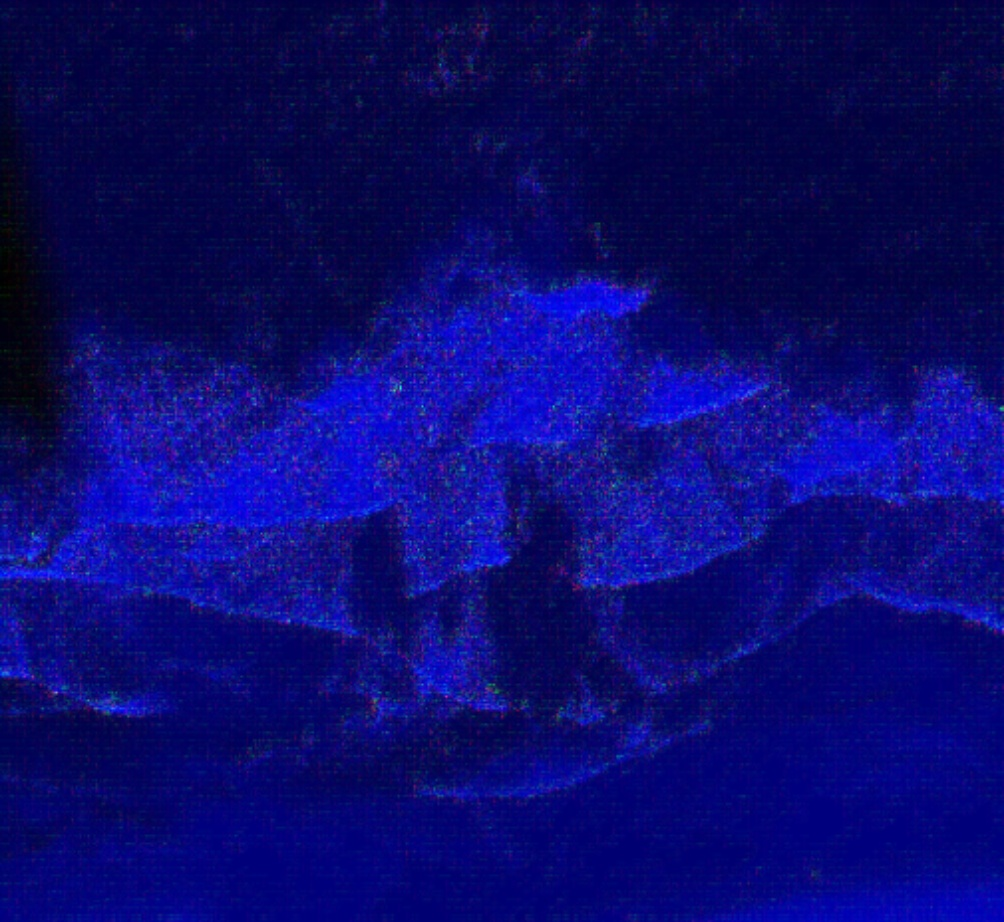rip_current: (435, 405, 640, 695)
